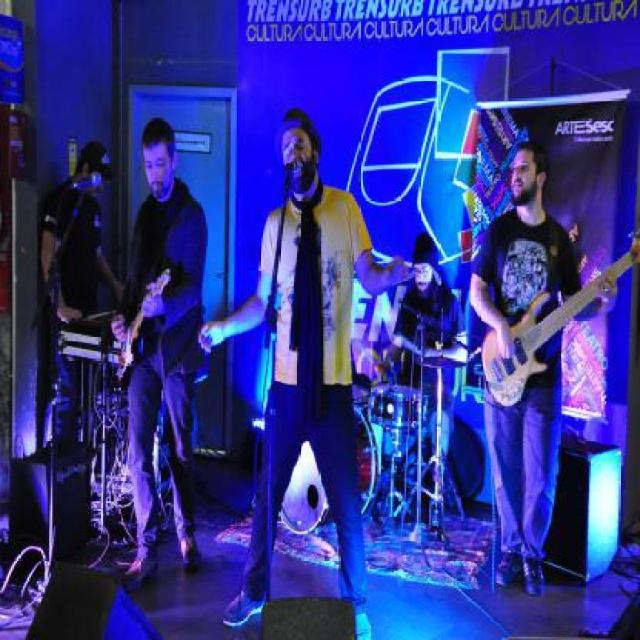Person: (198, 106, 410, 640), (468, 140, 618, 594), (112, 115, 208, 592), (38, 140, 125, 446), (373, 231, 467, 478)
